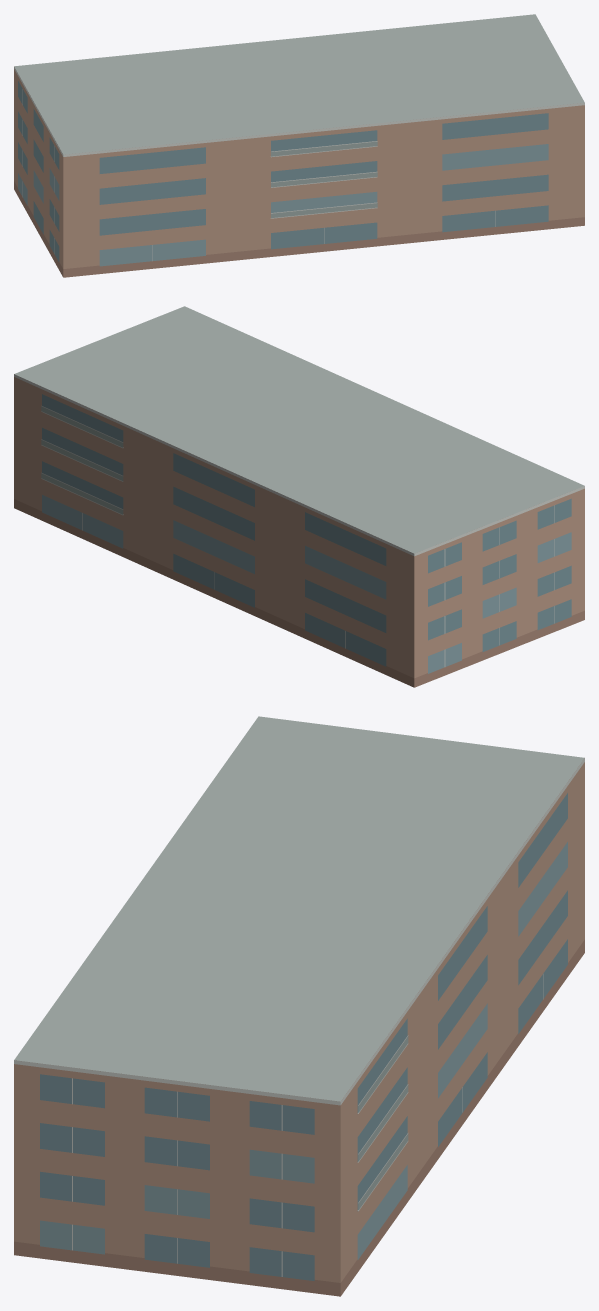
File: residential-ebda337b-1622-467f-9833-f4e550087ae2.glb
The picture shows the model from 3 angles, top to bottom: view 1: azimuth 30°, elevation 25°; view 2: azimuth 150°, elevation 25°; view 3: azimuth 270°, elevation 25°; orthographic projection. The views are drawn at different scales.
Parts seen in each view (by area): view 1: residential-ebda337b-1622-467f-9833-f4e550087ae2.tmp; view 2: residential-ebda337b-1622-467f-9833-f4e550087ae2.tmp; view 3: residential-ebda337b-1622-467f-9833-f4e550087ae2.tmp.
Boxes of the visible parts, bbox=[...] form: residential-ebda337b-1622-467f-9833-f4e550087ae2.tmp: bbox=[14, 14, 584, 277]; residential-ebda337b-1622-467f-9833-f4e550087ae2.tmp: bbox=[14, 306, 584, 687]; residential-ebda337b-1622-467f-9833-f4e550087ae2.tmp: bbox=[14, 716, 584, 1296].
Bounding box in the file's own units: 51.69 × 12.2 × 32.37.
